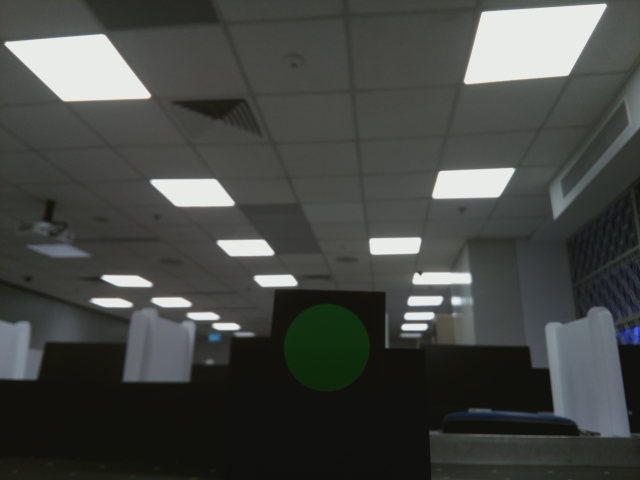go: (280, 302, 380, 399)
